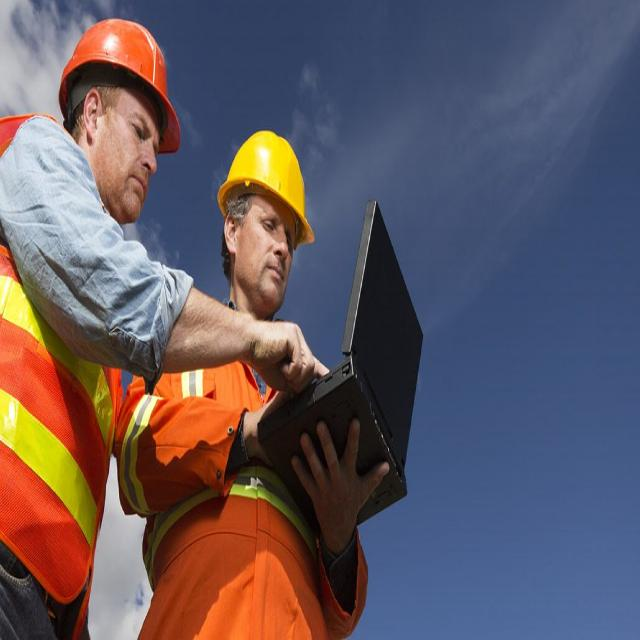Reflective-Jacket: (117, 279, 335, 635), (0, 101, 111, 634)
Safety-Helmet: (56, 12, 182, 158), (216, 124, 317, 245)
